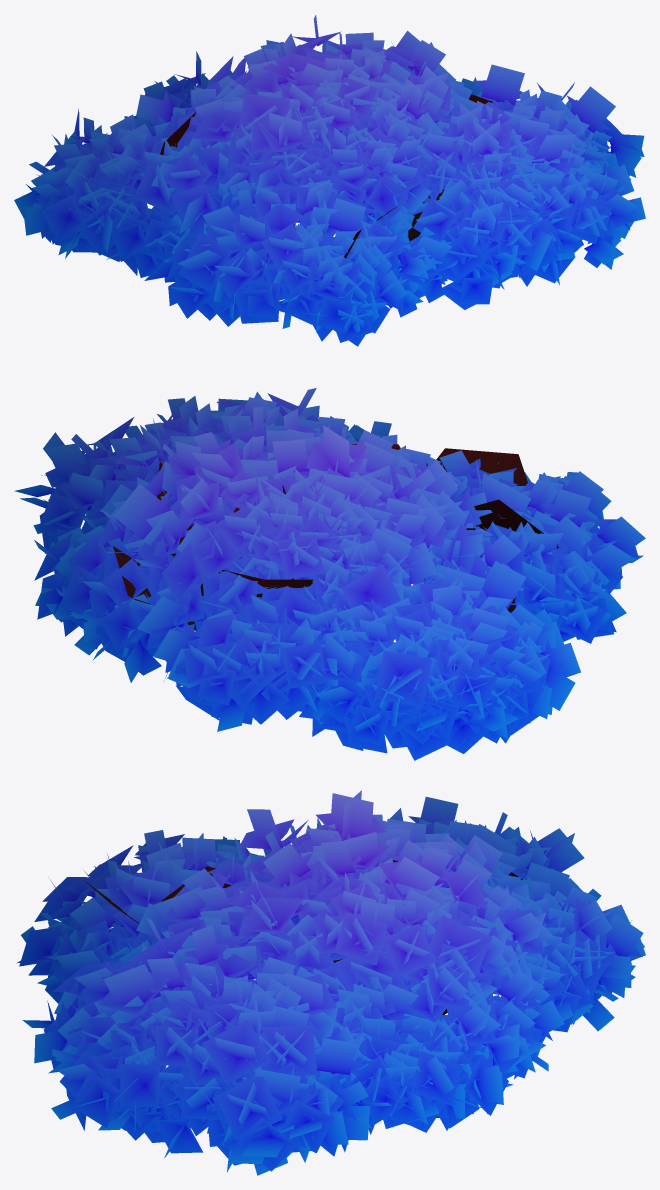
The model's file is SM_Env_Bush_Tropical_04.gltf.
3 views of the same model, one above another, from view 1: azimuth 30°, elevation 25°; view 2: azimuth 150°, elevation 25°; view 3: azimuth 270°, elevation 25° (orthographic). The views are drawn at different scales.
Visible parts, largest first — view 1: SM_Env_Bush_Tropical_04_Leaves_LOD0, SM_Env_Bush_Tropical_04_Branches_LOD0; view 2: SM_Env_Bush_Tropical_04_Leaves_LOD0, SM_Env_Bush_Tropical_04_Branches_LOD0; view 3: SM_Env_Bush_Tropical_04_Leaves_LOD0.
Part boxes in pixels (x1,y1,x2,y2): SM_Env_Bush_Tropical_04_Leaves_LOD0: [14, 15, 645, 346]; SM_Env_Bush_Tropical_04_Branches_LOD0: [160, 94, 492, 258]; SM_Env_Bush_Tropical_04_Leaves_LOD0: [14, 388, 645, 760]; SM_Env_Bush_Tropical_04_Branches_LOD0: [113, 444, 558, 640]; SM_Env_Bush_Tropical_04_Leaves_LOD0: [17, 790, 645, 1175].
Bounding box in the file's own units: 7.77 × 2.71 × 6.61.
